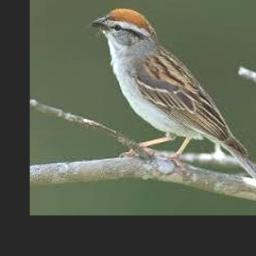Sparrow: (89, 7, 256, 210)
